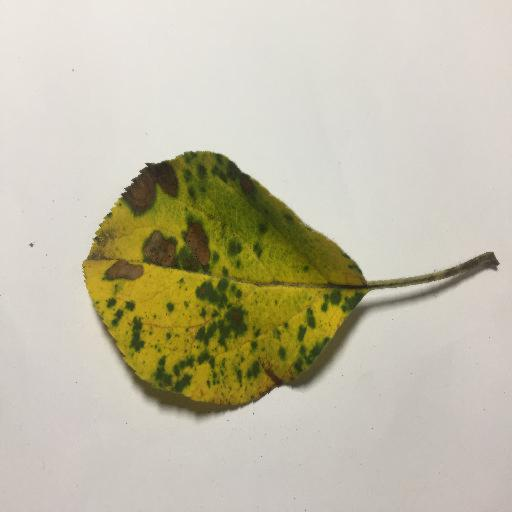Brown_Spot: (181, 220, 212, 260), (97, 260, 142, 282), (146, 234, 176, 267), (256, 364, 291, 391), (123, 179, 151, 208), (150, 164, 177, 190), (226, 310, 254, 332), (238, 174, 260, 196)
